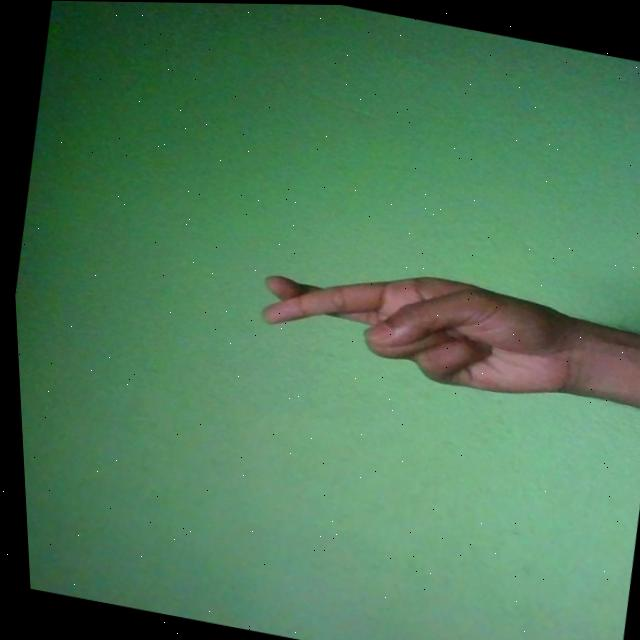Good Luck: (248, 244, 588, 406)
